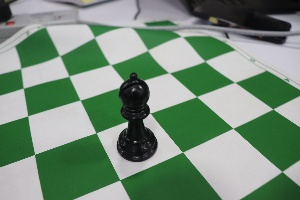black_bishop: (107, 63, 165, 167)
